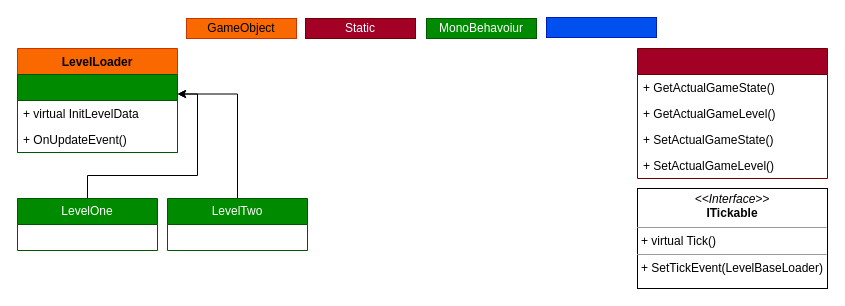
The diagram is 845 pixels wide and 306 high, and some of its shapes have lost their labels. The box of each missing label's shape, as (x1, y1, x2, y2) in pixels:
GameManager: (636, 48, 828, 178)
LevelBaseLoader: (16, 74, 178, 152)
Normal: (546, 16, 656, 38)
